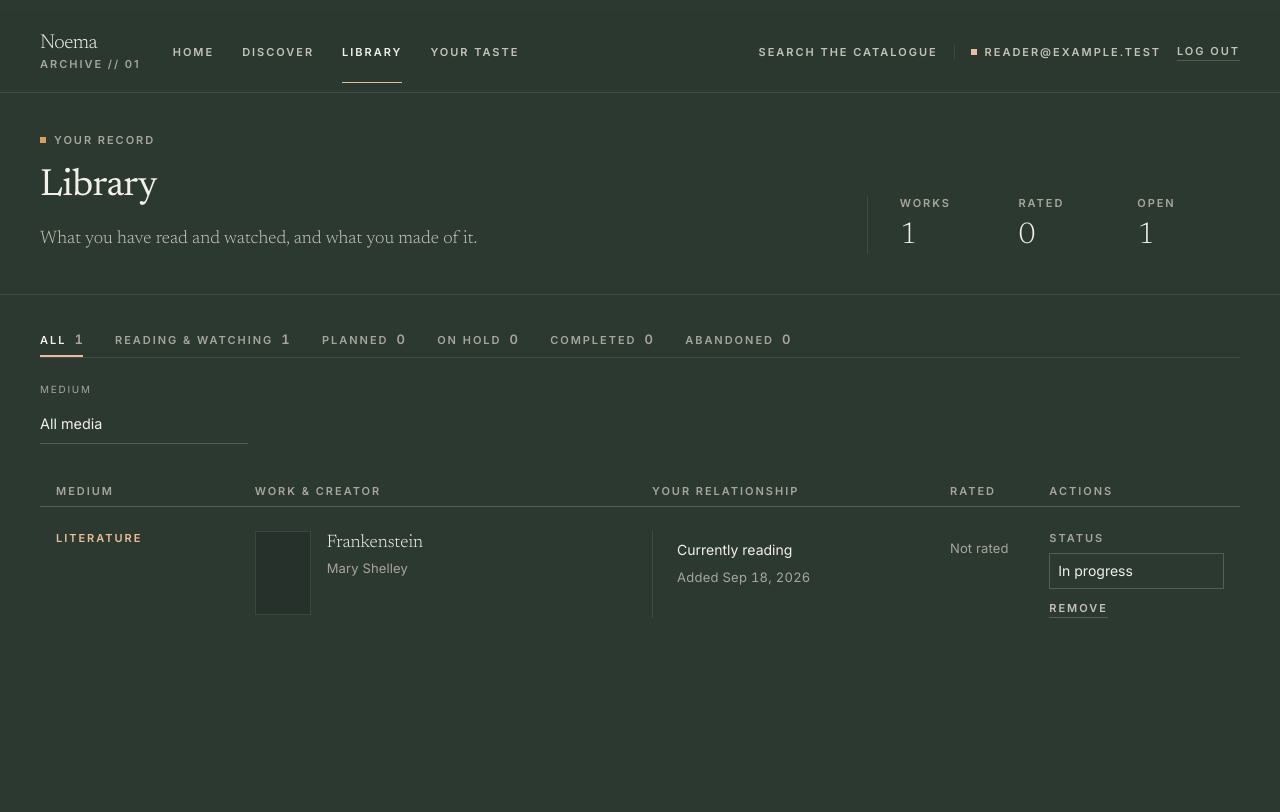
Library status organisation › says what is missing when a chosen status is empty
Click the tab "On hold0" at point(478, 344), box 437,331 -> 518,357
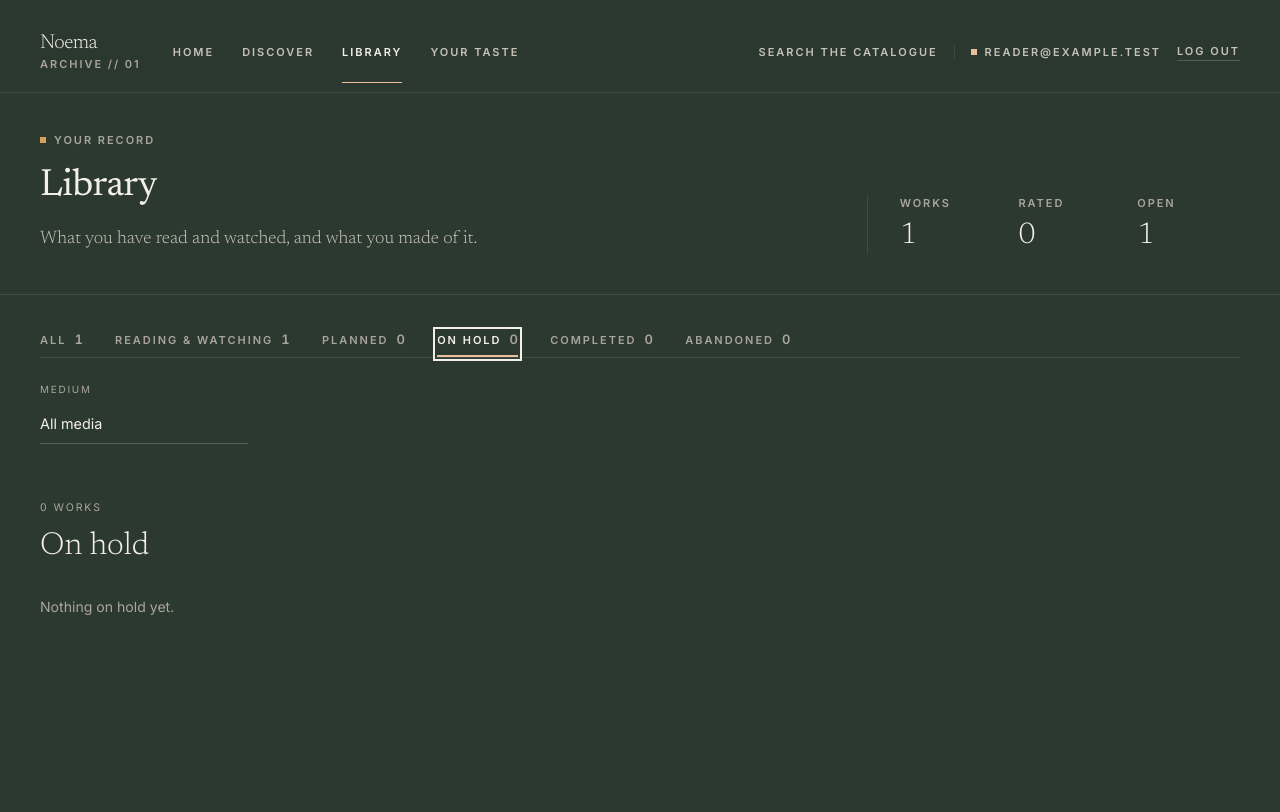
Now the heading "On hold" is shown, box 40,528 -> 149,564
